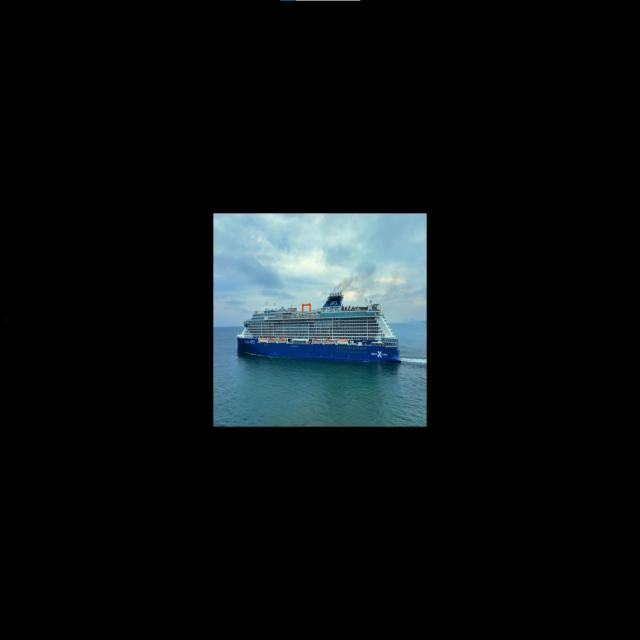ship: (239, 292, 399, 366)
